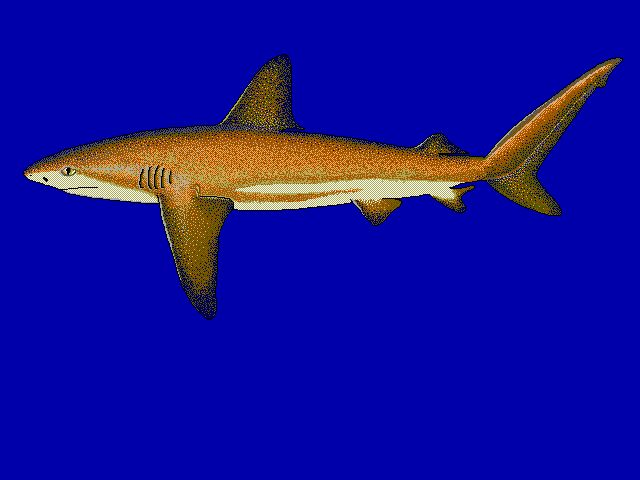fish: (22, 54, 623, 320)
